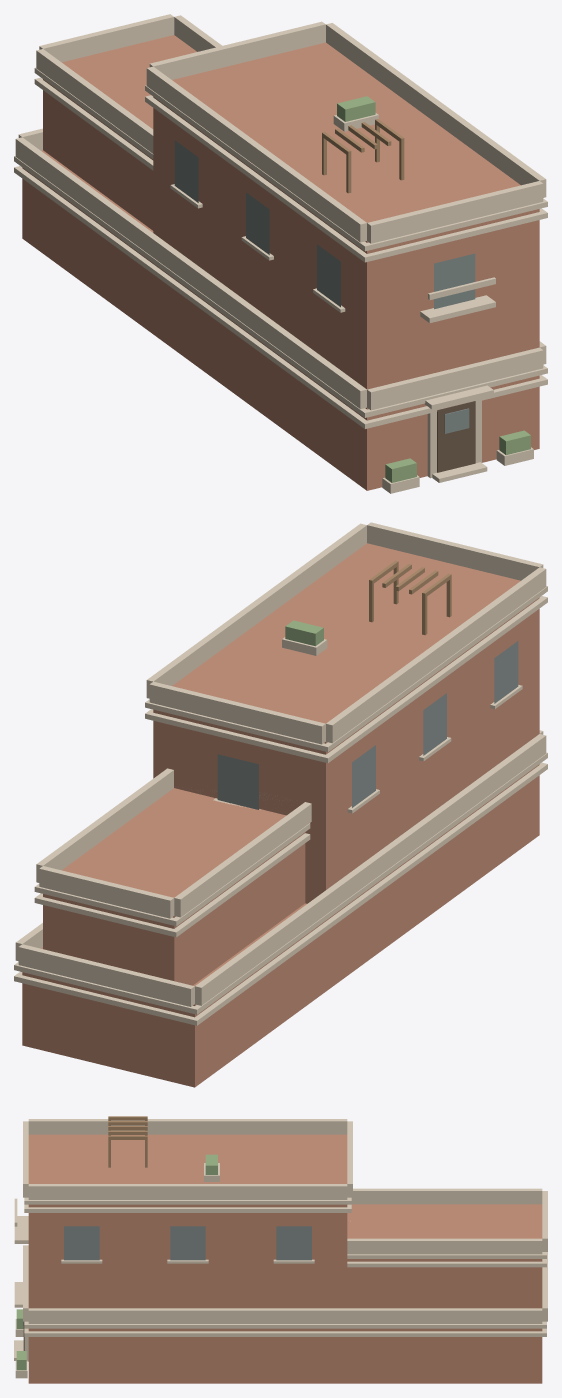
File: residential_1x3_court.glb
3 renders of one model, top to bottom at view 1: azimuth 30°, elevation 25°; view 2: azimuth 150°, elevation 25°; view 3: azimuth 270°, elevation 25°, orthographic. The views are drawn at different scales.
Parts seen in each view (by area): view 1: residential_1x3_court_0; view 2: residential_1x3_court_0; view 3: residential_1x3_court_0.
Boxes of the visible parts, <box> form: residential_1x3_court_0: <box>14,14,547,493</box>; residential_1x3_court_0: <box>14,522,547,1087</box>; residential_1x3_court_0: <box>14,1116,547,1383</box>.
Bounding box in the file's own units: 7 × 10.5 × 23.4.
